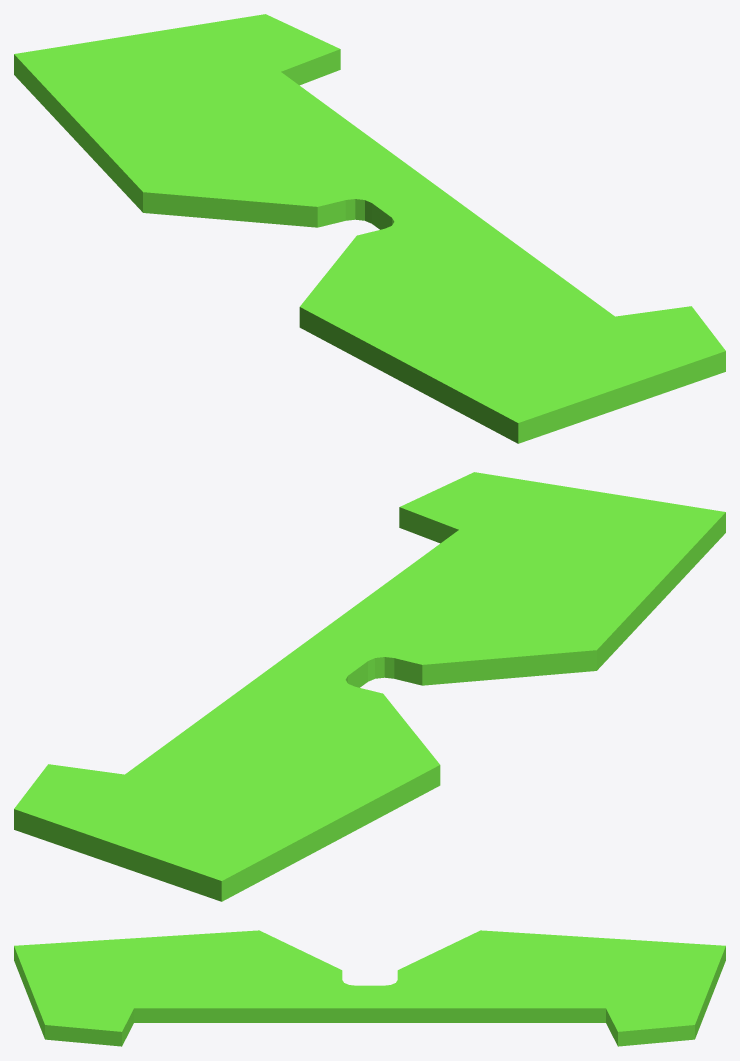
File: elevator.dae
3 renders of one model, top to bottom at view 1: azimuth 30°, elevation 25°; view 2: azimuth 150°, elevation 25°; view 3: azimuth 270°, elevation 25°, orthographic. The views are drawn at different scales.
Parts seen in each view (by area): view 1: elevator; view 2: elevator; view 3: elevator.
Part boxes in pixels (bbox=[...]): elevator: bbox=[14, 14, 725, 443]; elevator: bbox=[14, 472, 725, 901]; elevator: bbox=[14, 930, 725, 1046].
Bounding box in the file's own units: 0.0891 × 0.264 × 0.006.
